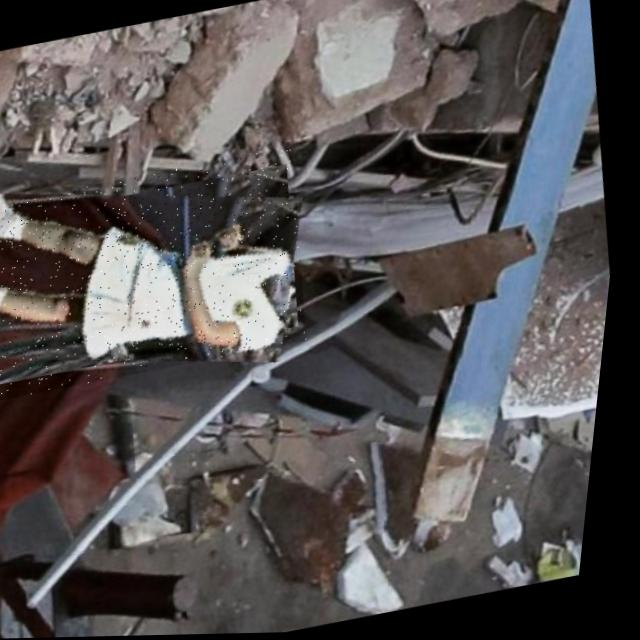Person in Rubble: (0, 147, 329, 406)
